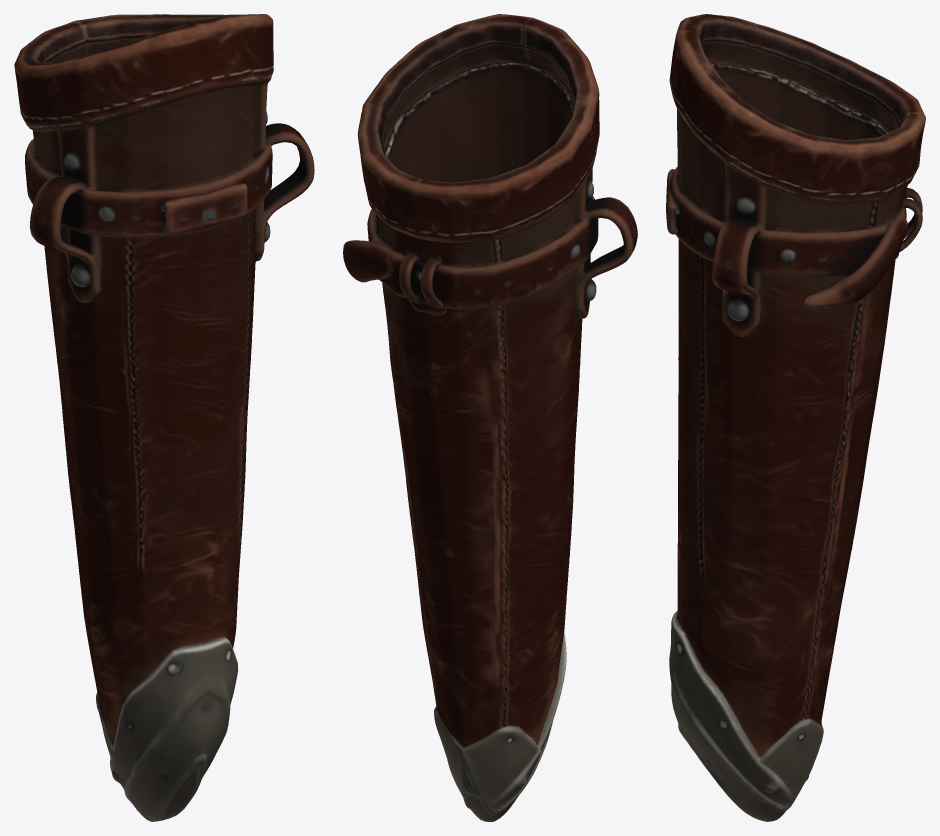
File: quiver.glb
3 renders of one model, left to right at view 1: azimuth 30°, elevation 25°; view 2: azimuth 150°, elevation 25°; view 3: azimuth 270°, elevation 25°, orthographic. The views are drawn at different scales.
Parts seen in each view (by area): view 1: world; view 2: world; view 3: world.
Part boxes in pixels (box(x1,y1,x2,y2)): world: box(14, 14, 314, 821); world: box(343, 14, 637, 821); world: box(666, 14, 925, 821).
Size of the model in its own units: 0.3524 by 1 by 0.2994.
Materials: 1 (1 with a texture image).
